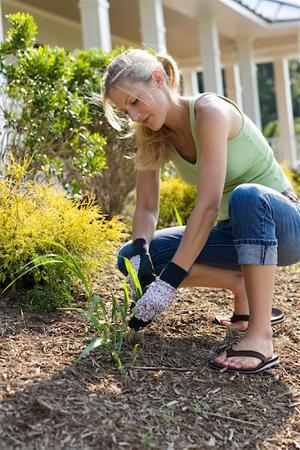person: (100, 46, 298, 378)
